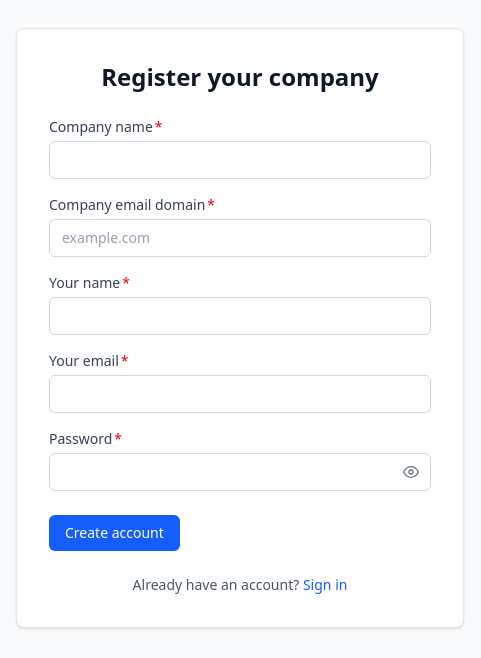
RegisterPage › displays inline validation errors on 422
Step 1. Type "bad" into the field labelled "Your email*" → (240, 394), box [49,375,431,413]
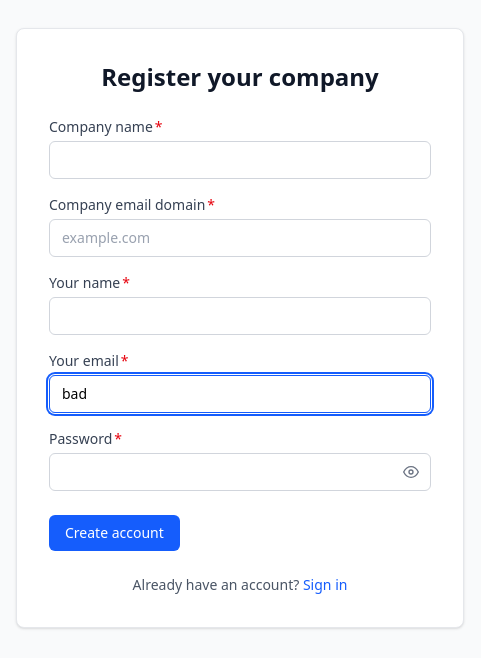
Step 2. Click the button "Create account" → (114, 533), box [49,515,180,551]
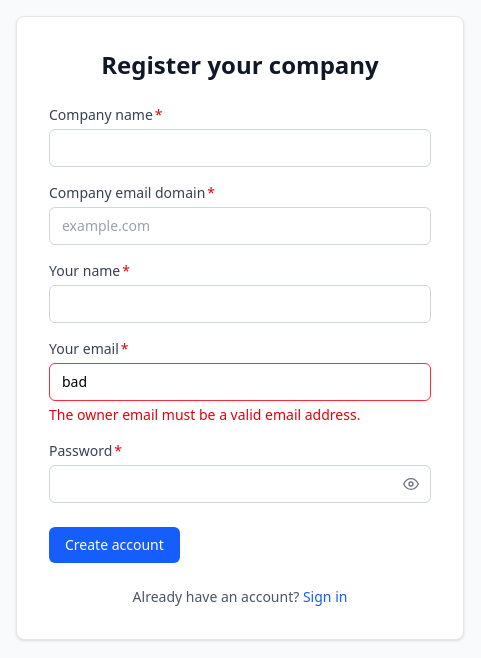
Expected: the text "The owner email must be a valid email address." is shown, [49,405,360,424]
